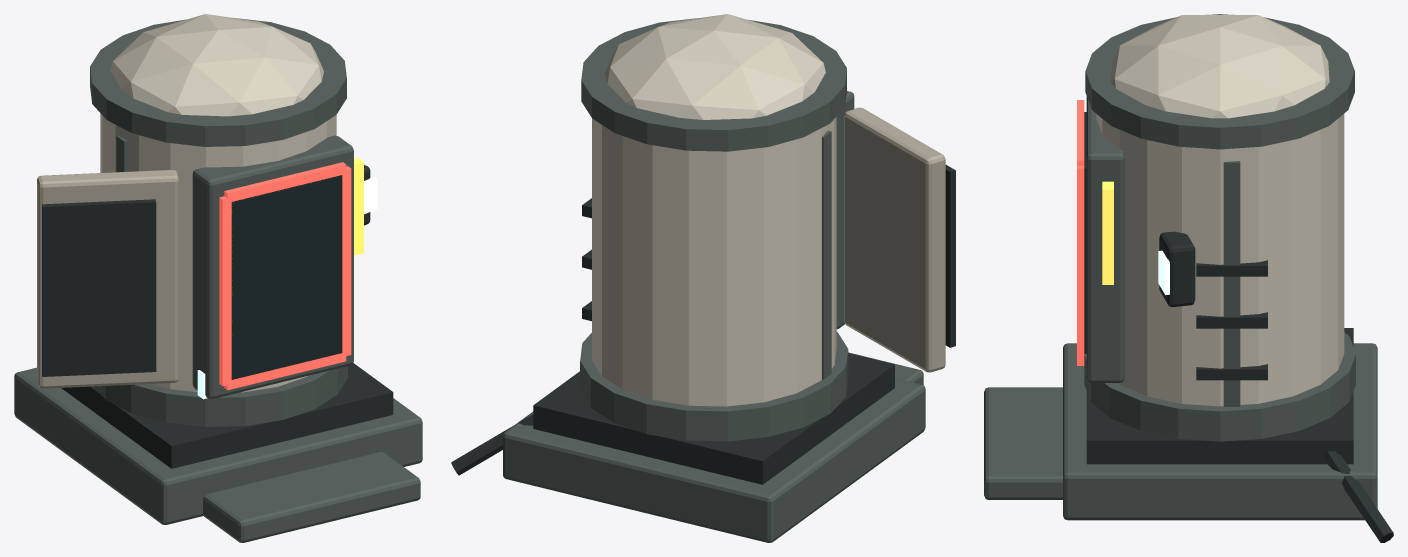
File: prop_pod_07.glb
3 renders of one model, left to right at view 1: azimuth 30°, elevation 25°; view 2: azimuth 150°, elevation 25°; view 3: azimuth 270°, elevation 25°, orthographic. The views are drawn at different scales.
Parts seen in each view (by area): view 1: prop_pod_07; view 2: prop_pod_07; view 3: prop_pod_07.
Boxes of the visible parts, x1=… form: prop_pod_07: x1=14, y1=14, x2=422, y2=542; prop_pod_07: x1=451, y1=14, x2=955, y2=542; prop_pod_07: x1=984, y1=14, x2=1393, y2=542.
Size of the model in its own units: 2.12 by 2.2 by 1.9.
